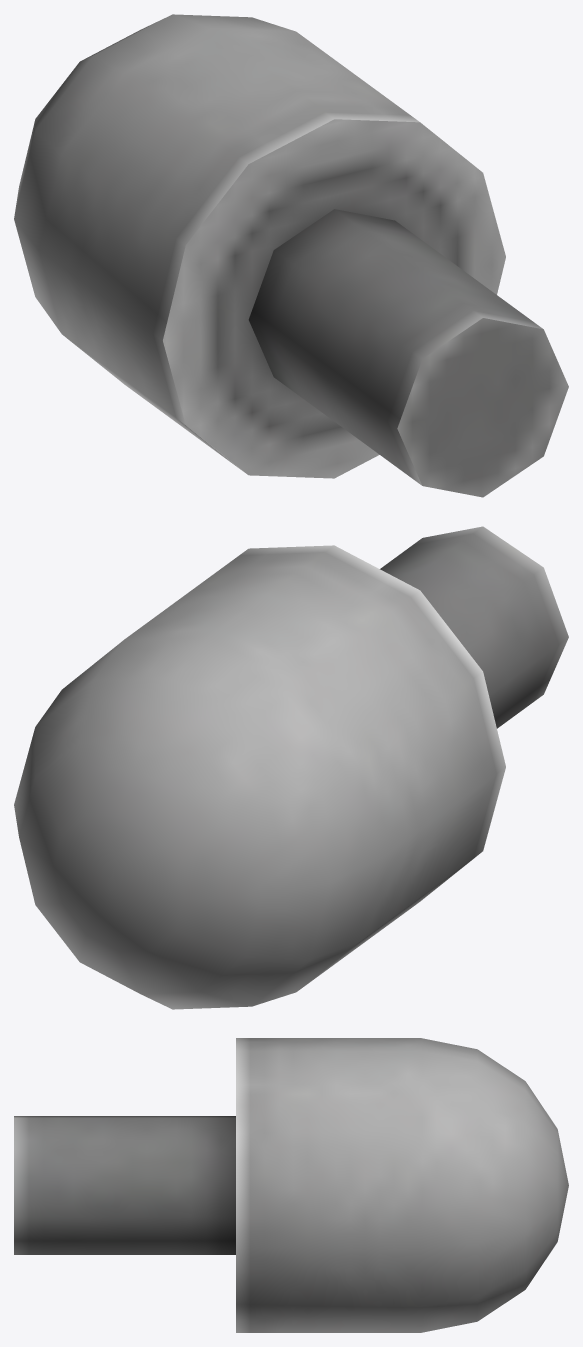
File: 4mv_vl_sensor_thermometer_srf_1.obj
3 renders of one model, top to bottom at view 1: azimuth 30°, elevation 25°; view 2: azimuth 150°, elevation 25°; view 3: azimuth 270°, elevation 25°, orthographic. The views are drawn at different scales.
Parts seen in each view (by area): view 1: mesh1; view 2: mesh1; view 3: mesh1.
Boxes of the visible parts, box(x1,y1,x2,y2) form: mesh1: box(14, 14, 568, 497); mesh1: box(14, 526, 568, 1009); mesh1: box(14, 1038, 568, 1332).
Size of the model in its own units: 0.1 by 0.1 by 0.1875.
1 material, 1 textured.
